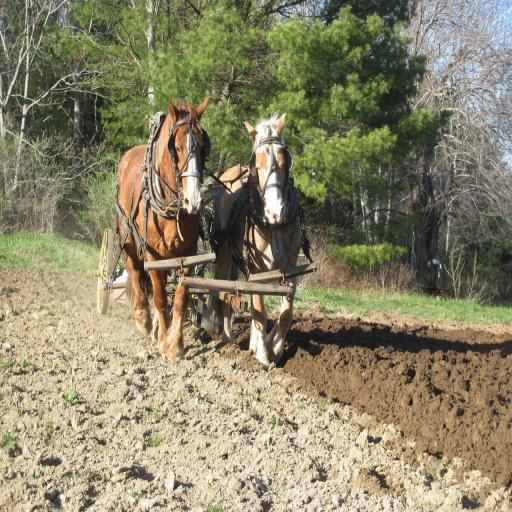Horse: (118, 96, 210, 356), (209, 108, 302, 363)
